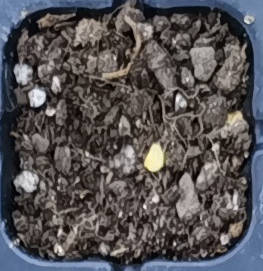pepper seed: (61, 56, 226, 230)
